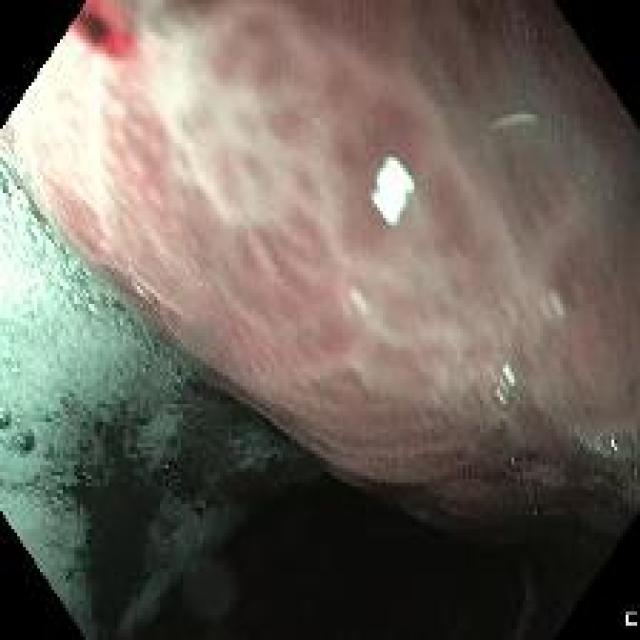blood: (68, 1, 139, 66)
blur: (4, 0, 639, 461)
bubbles: (2, 194, 170, 483), (610, 432, 634, 466)
contrast: (118, 420, 568, 633)
saturation: (6, 42, 114, 213), (2, 179, 61, 321), (139, 25, 198, 140)
specularity: (371, 152, 416, 224), (495, 365, 518, 404)
